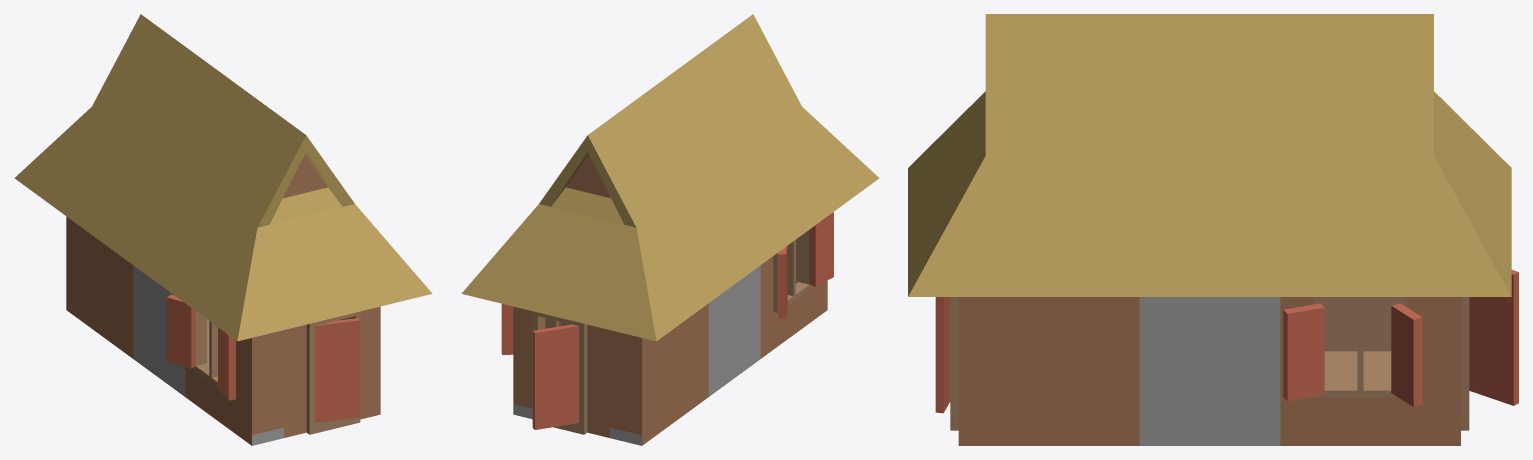
The model's file is House.fbx.
3 views of the same model, side by side, from view 1: azimuth 30°, elevation 25°; view 2: azimuth 150°, elevation 25°; view 3: azimuth 270°, elevation 25° (orthographic). The views are drawn at different scales.
Visible parts, largest first — view 1: polySurface40, polySurface11, polySurface39, polySurface38; view 2: polySurface40, polySurface8, polySurface38, polySurface39, polySurface2; view 3: polySurface40, polySurface8, polySurface37, polySurface2, polySurface11.
Boxes of the visible parts, bbox=[...] form: polySurface40: bbox=[14, 14, 432, 445]; polySurface11: bbox=[315, 318, 360, 422]; polySurface39: bbox=[166, 294, 195, 368]; polySurface38: bbox=[218, 327, 235, 400]; polySurface40: bbox=[461, 14, 879, 445]; polySurface8: bbox=[532, 324, 578, 429]; polySurface38: bbox=[809, 212, 833, 286]; polySurface39: bbox=[778, 246, 787, 318]; polySurface2: bbox=[501, 304, 513, 354]; polySurface40: bbox=[908, 14, 1511, 445]; polySurface8: bbox=[1469, 270, 1518, 405]; polySurface37: bbox=[1283, 303, 1324, 401]; polySurface2: bbox=[1391, 303, 1422, 407]; polySurface11: bbox=[935, 297, 950, 413].
Size of the model in its own units: 15.19 by 21.39 by 30.41.
